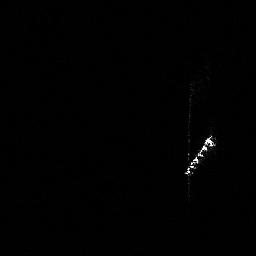ship: (180, 129, 220, 180)
